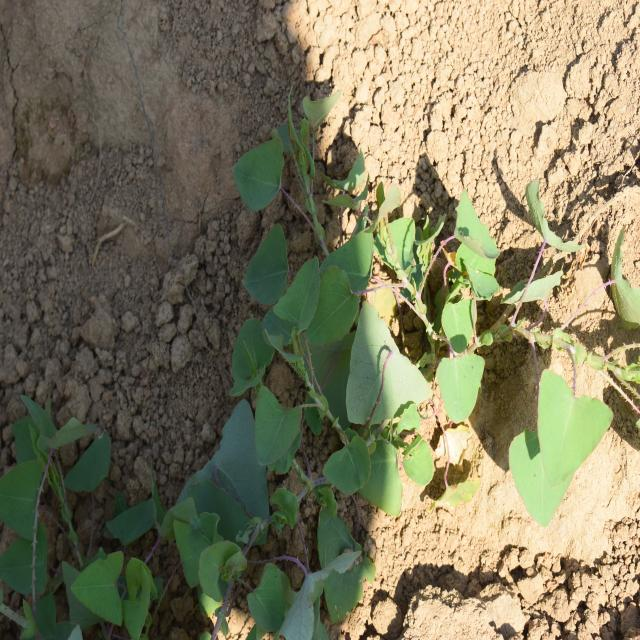Asiatic_Smartweed: (311, 313, 492, 523), (225, 230, 348, 477), (235, 71, 375, 259), (158, 487, 305, 630), (506, 366, 619, 532)
